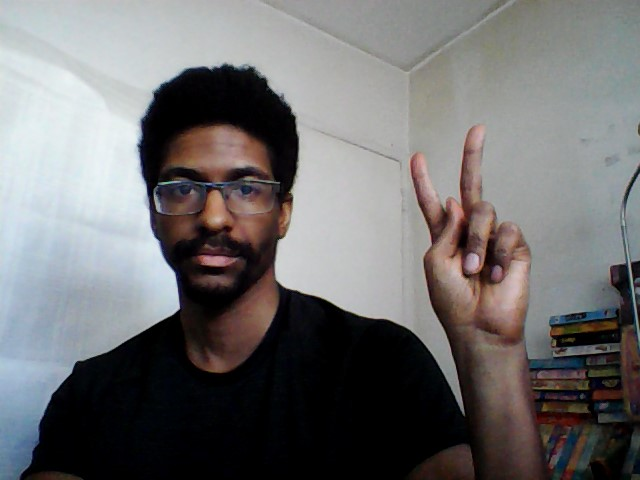k: (404, 112, 538, 352)
